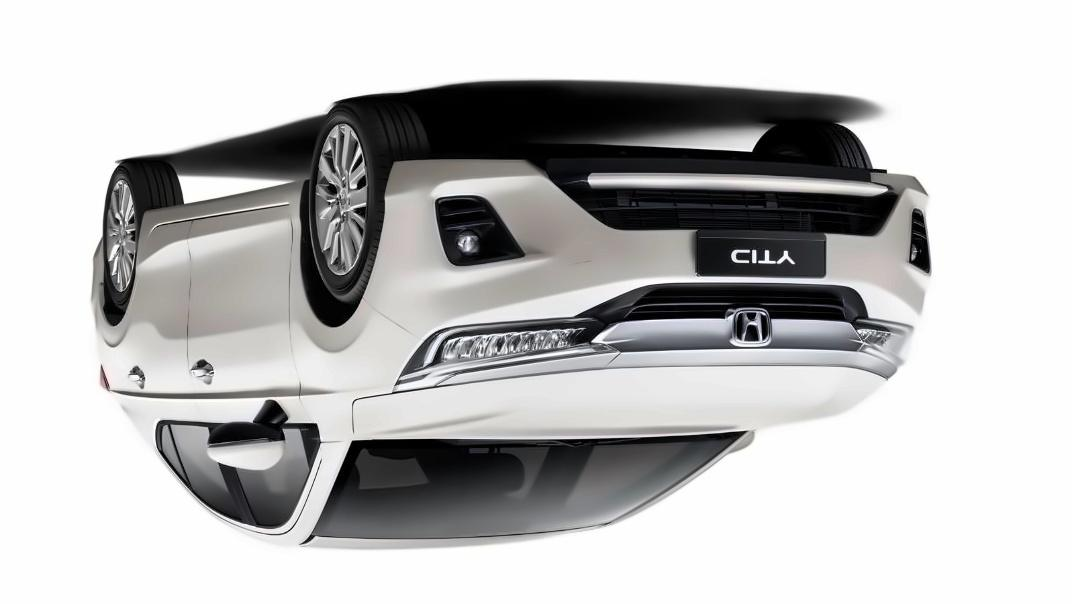Car hood: (349, 360, 892, 445)
Fender - -F-L-: (267, 265, 429, 446)
Fender - -R-L-: (75, 276, 162, 409)
Front bumper: (377, 140, 939, 328)
Headlight - -L-: (393, 317, 623, 393)
Headlight - -R-: (853, 324, 913, 368)
Passenger-s door - -F-L-: (186, 179, 334, 550)
Passenger-s door - -R-L-: (115, 173, 232, 542)
Side bumper - -L-: (109, 182, 331, 263)
Side mirror - -L-: (203, 398, 291, 476)
